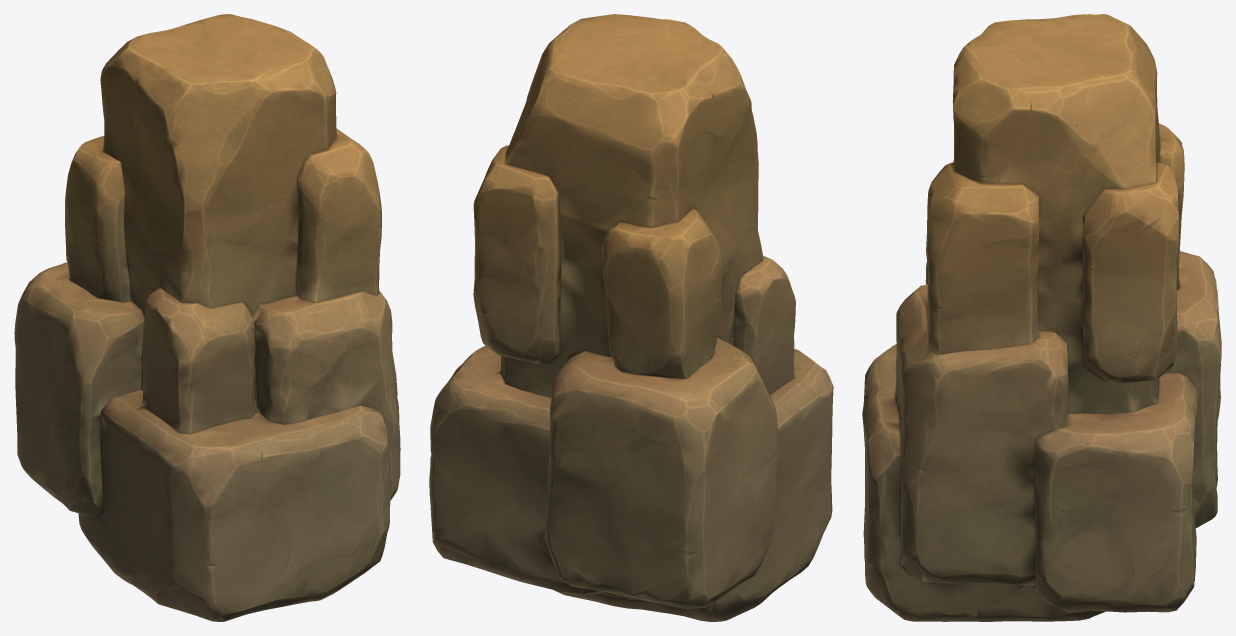
File: SM_Mountain.fbx
The picture shows the model from 3 angles, left to right: view 1: azimuth 30°, elevation 25°; view 2: azimuth 150°, elevation 25°; view 3: azimuth 270°, elevation 25°; orthographic projection. The views are drawn at different scales.
Visible parts, largest first — view 1: SM_Mountain_LOD0; view 2: SM_Mountain_LOD0; view 3: SM_Mountain_LOD0.
Boxes of the visible parts, x1,y1,x2,y2 form: SM_Mountain_LOD0: (14, 14, 400, 621); SM_Mountain_LOD0: (429, 14, 833, 621); SM_Mountain_LOD0: (862, 14, 1221, 621).
Size of the model in its own units: 1356 by 1430 by 2364.
Materials: 1 (1 with a texture image).
